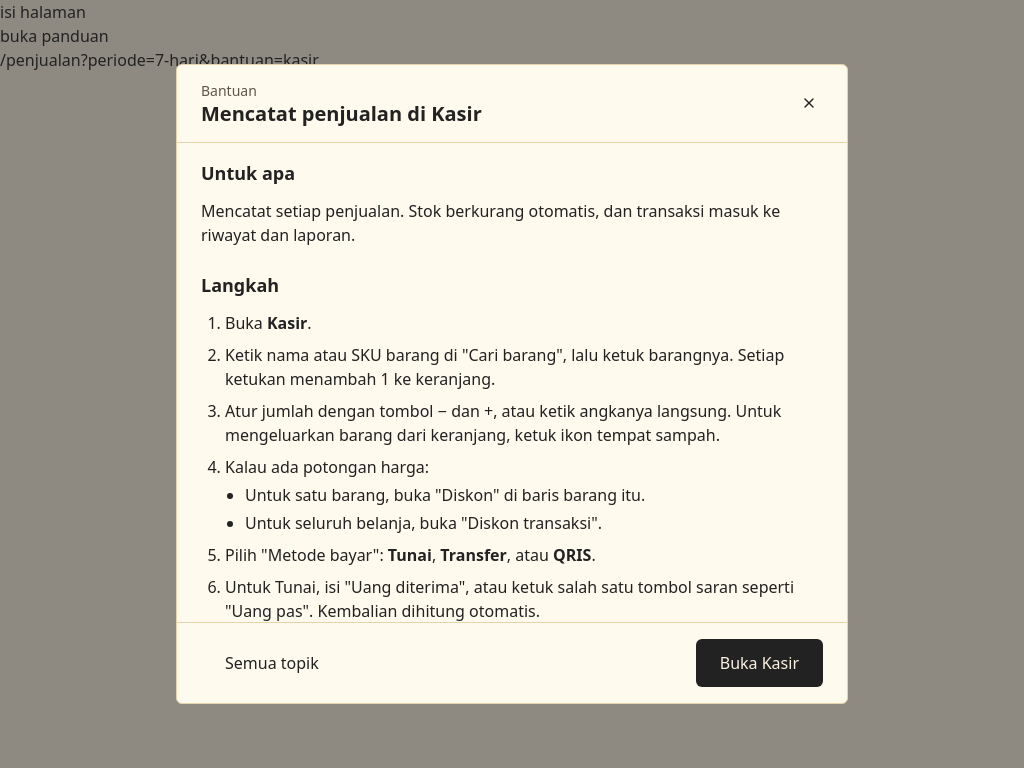
HelpSheetHost › dibuka lewat alamat langsung: menutup menghapus parameter bantuan saja
Click the button named "Tutup" at [809, 103], box [787,81,831,125]
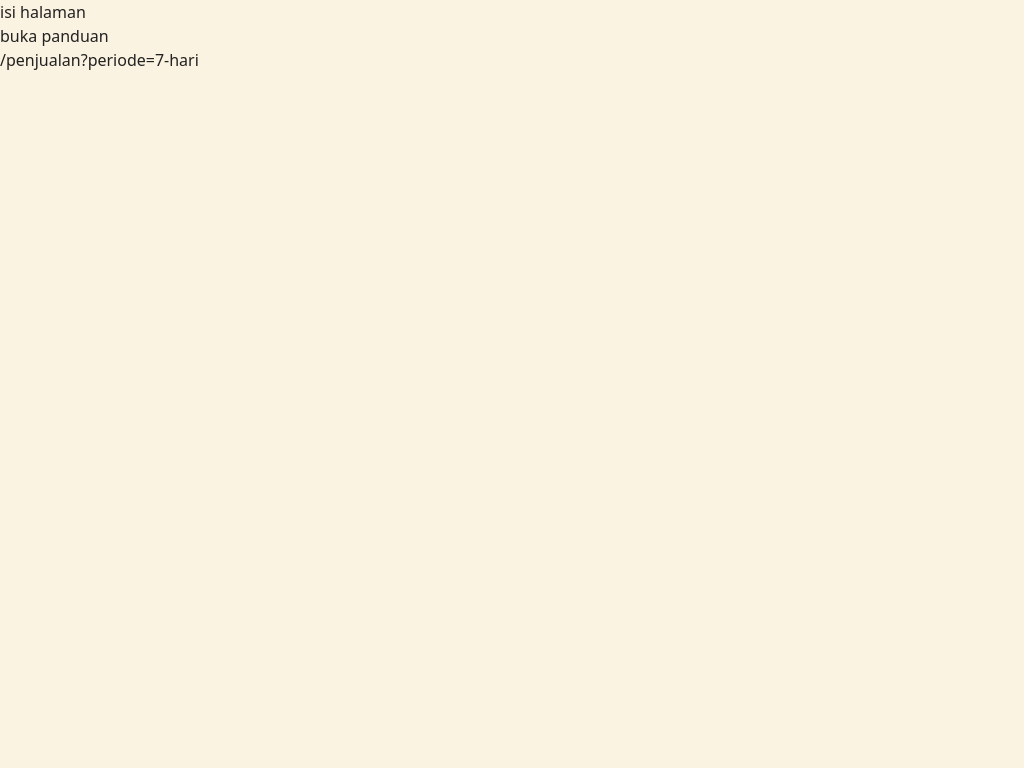
Result: the dialog is gone
Result: the text with test id "lokasi" reads "/penjualan?periode=7-hari" at [0,49,199,71]
